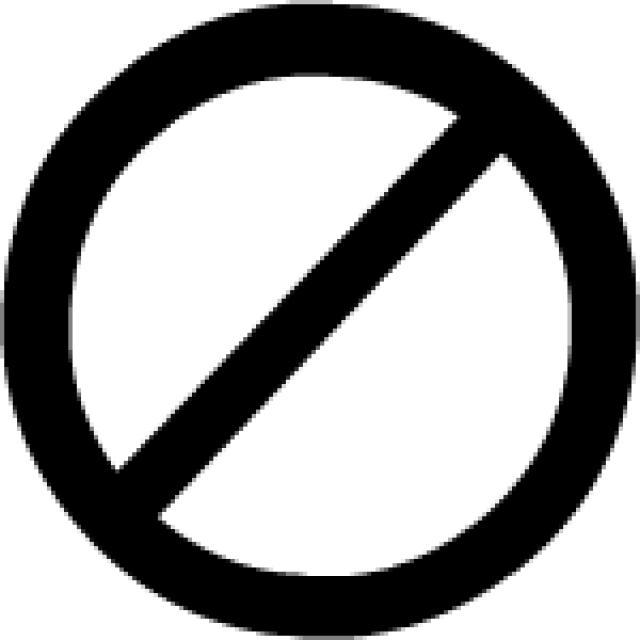restriction ends: (19, 20, 619, 619)
